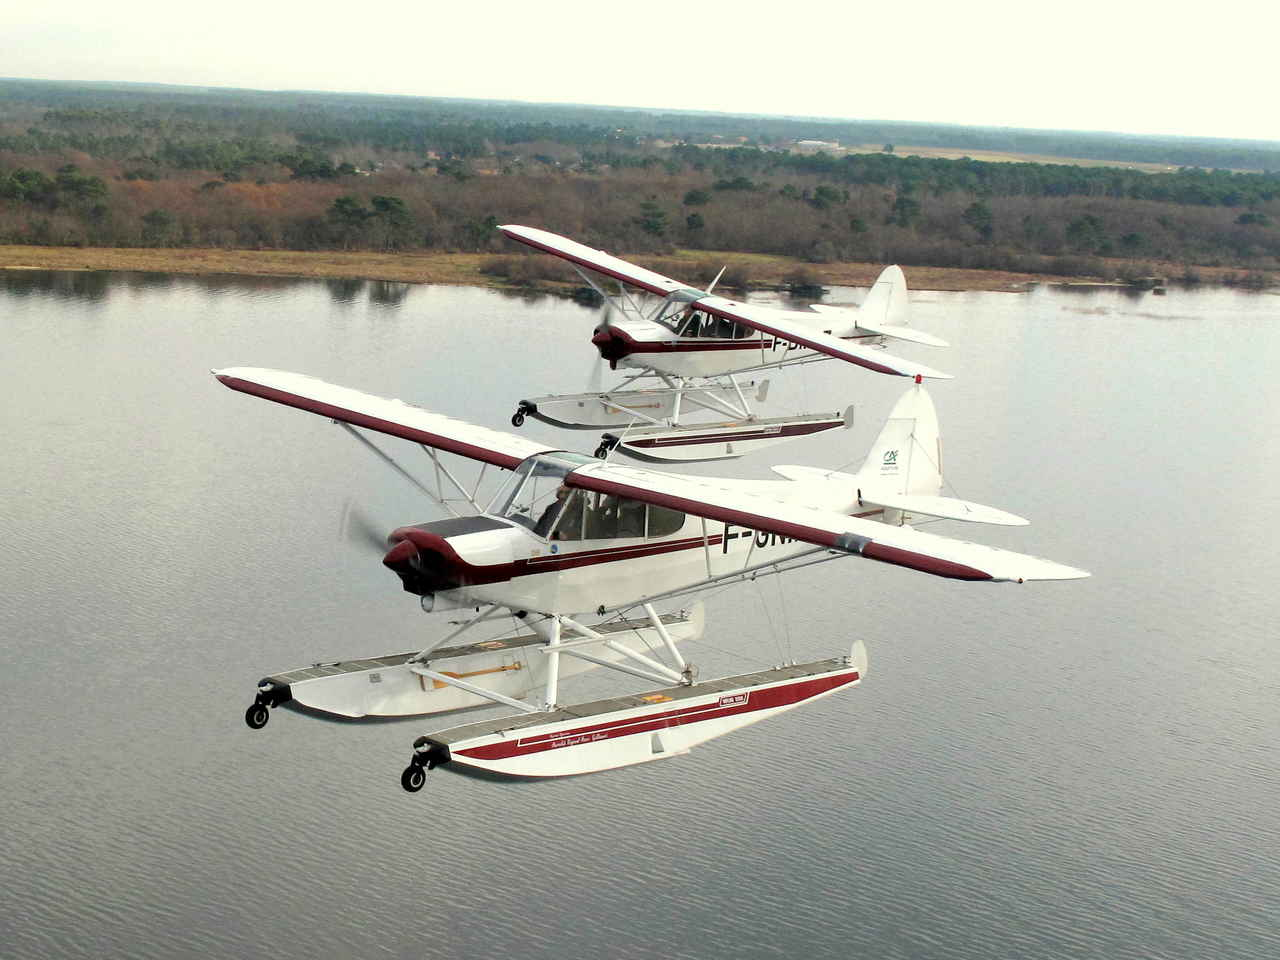Aeronef_de_loisir: (191, 357, 1120, 806), (441, 209, 970, 475)
